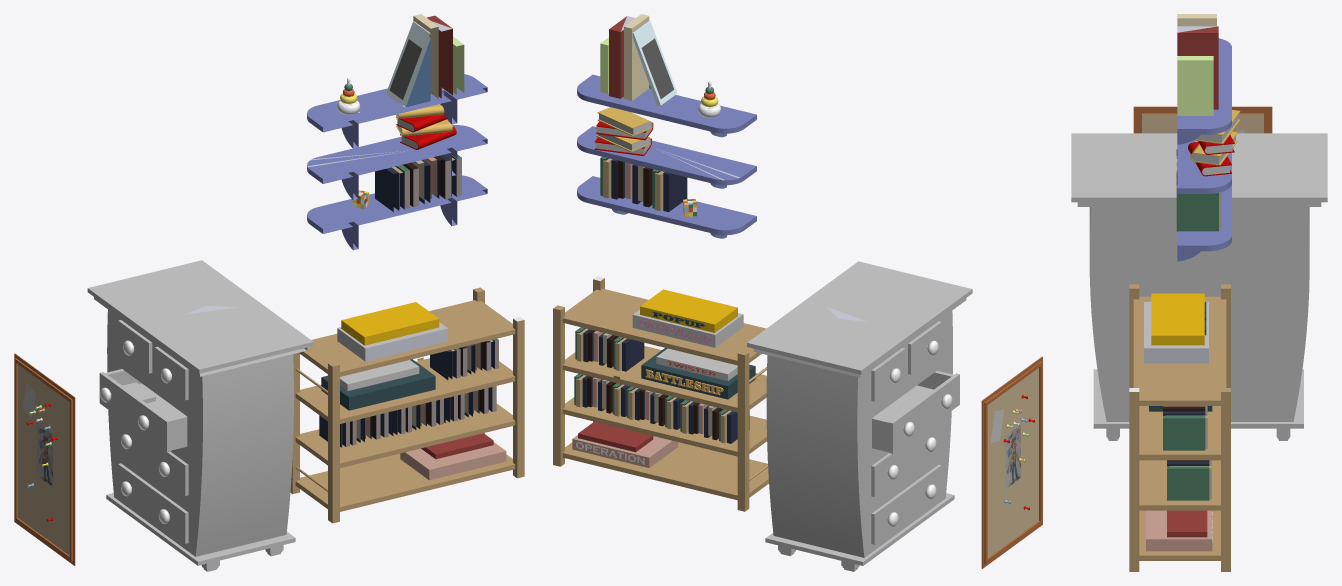
Rendered from andy_asset.fbx.
3 views of the same model, side by side, from view 1: azimuth 30°, elevation 25°; view 2: azimuth 150°, elevation 25°; view 3: azimuth 270°, elevation 25° (orthographic). The views are drawn at different scales.
Parts seen in each view (by area): view 1: SketchUp.029, group_17.006, SketchUp.022, SketchUp.187; view 2: SketchUp.029, group_17.006, SketchUp.022, SketchUp.187; view 3: SketchUp.029, group_17.006, SketchUp.022, SketchUp.187.
Boxes of the visible parts, x1,y1,x2,y2 form: SketchUp.029: (87, 260, 313, 571); group_17.006: (290, 287, 524, 523); SketchUp.022: (307, 14, 487, 250); SketchUp.187: (14, 353, 75, 565); SketchUp.029: (747, 261, 972, 571); group_17.006: (553, 276, 768, 511); SketchUp.022: (577, 14, 756, 238); SketchUp.187: (981, 356, 1042, 568); SketchUp.029: (1071, 133, 1327, 440); group_17.006: (1129, 284, 1230, 571); SketchUp.022: (1176, 14, 1240, 261); SketchUp.187: (1133, 106, 1272, 133).
Bounding box in the file's own units: 1111 × 1073 × 472.
39 materials, 11 textured.
